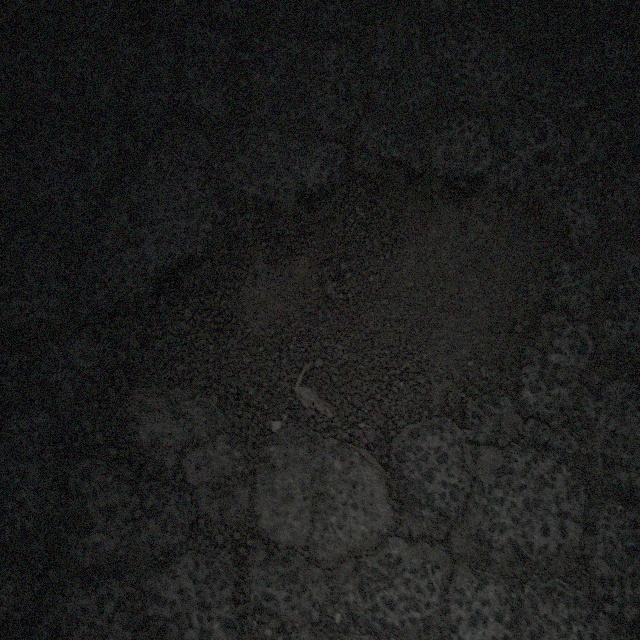pothole: (121, 153, 583, 479)
